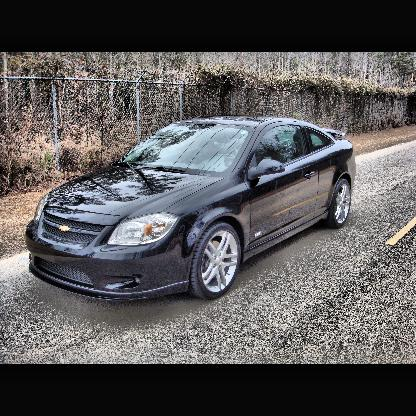Chevrolet Cobalt SS 2010: (27, 116, 356, 302)
